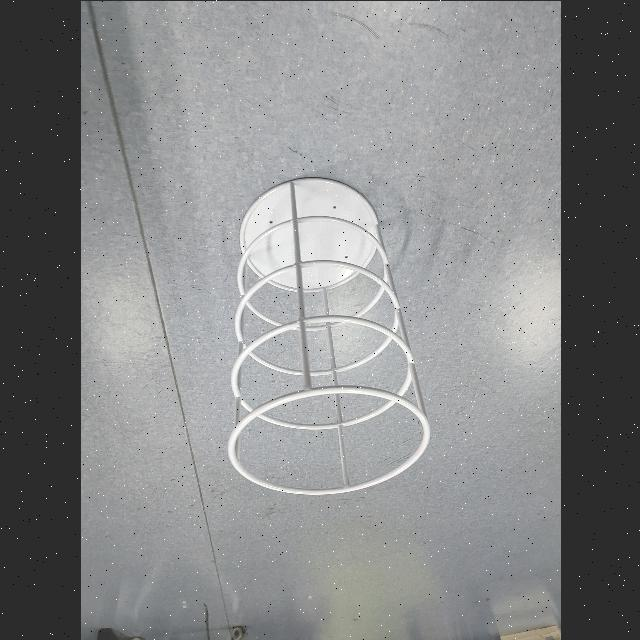S: (223, 172, 431, 498)
